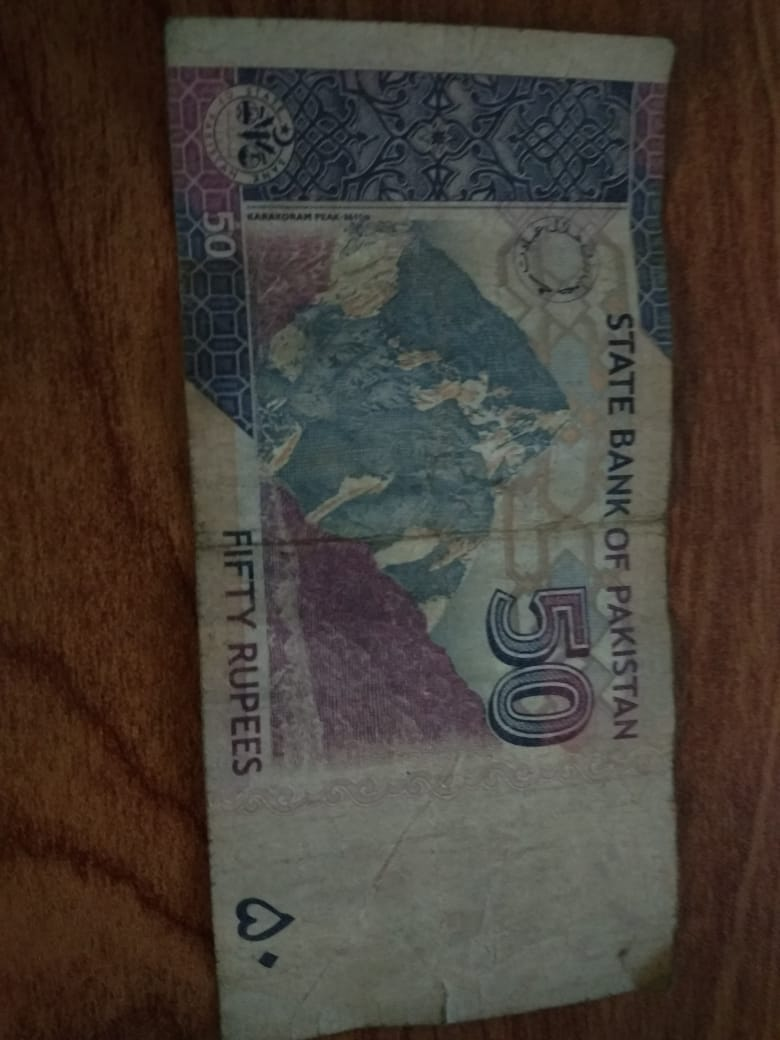50 rupee: (151, 20, 731, 1018)
